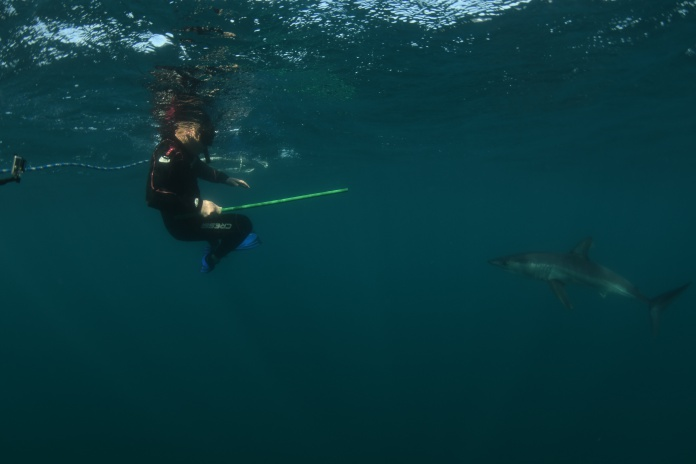Mako: (477, 221, 694, 336)
